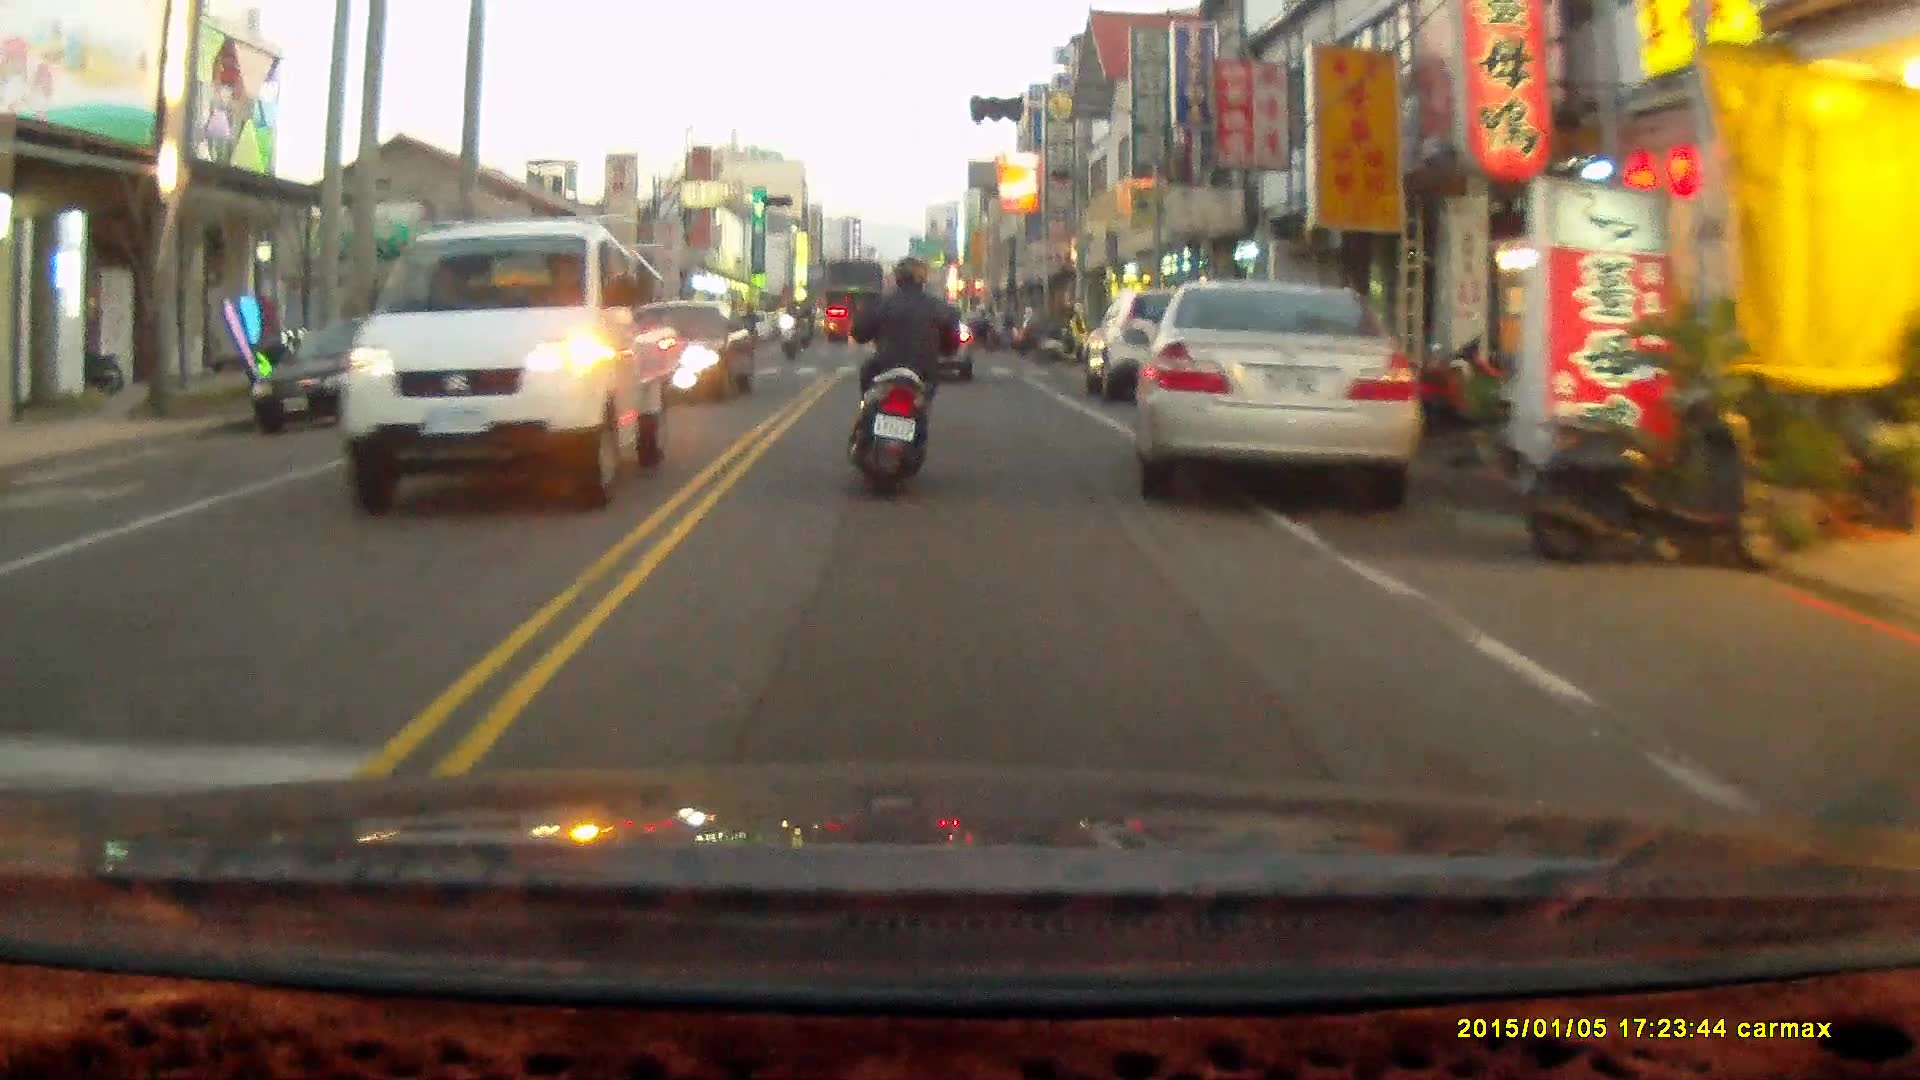pedestrian: (1063, 295, 1086, 366)
rider: (847, 255, 969, 498), (775, 303, 800, 364)
vehicle: (336, 215, 677, 511), (1130, 271, 1423, 503), (252, 309, 444, 422), (819, 250, 889, 335)
